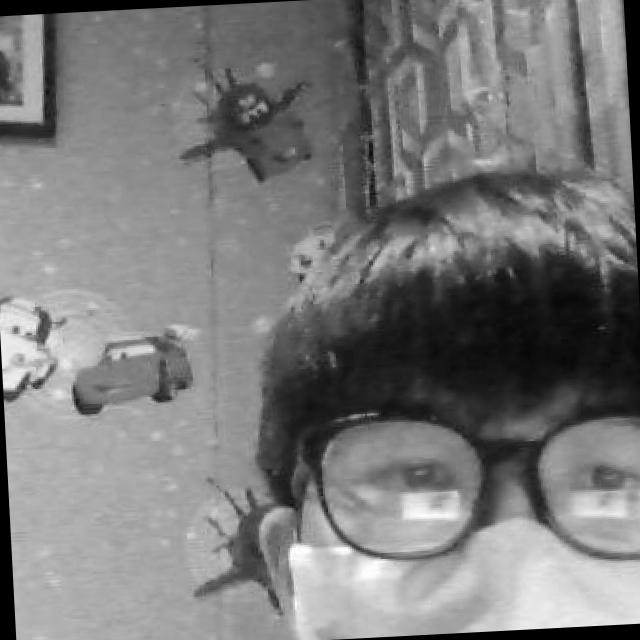Focused: (240, 157, 640, 640)
